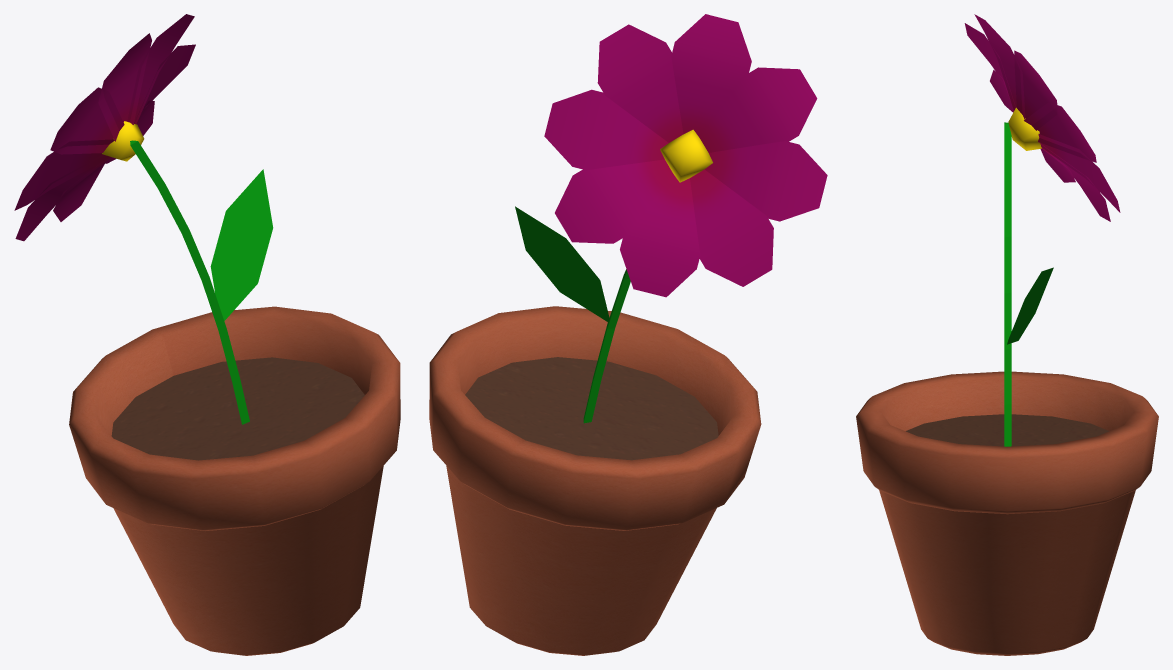
The model's file is pot.fbx.
The picture shows the model from 3 angles, left to right: view 1: azimuth 30°, elevation 25°; view 2: azimuth 150°, elevation 25°; view 3: azimuth 270°, elevation 25°; orthographic projection. The views are drawn at different scales.
Visible parts, largest first — view 1: Cylinder; view 2: Cylinder; view 3: Cylinder.
Boxes of the visible parts, x1,y1,x2,y2 form: Cylinder: (14, 14, 400, 655); Cylinder: (429, 14, 827, 655); Cylinder: (856, 14, 1158, 655).
Size of the model in its own units: 113 by 234 by 143.
